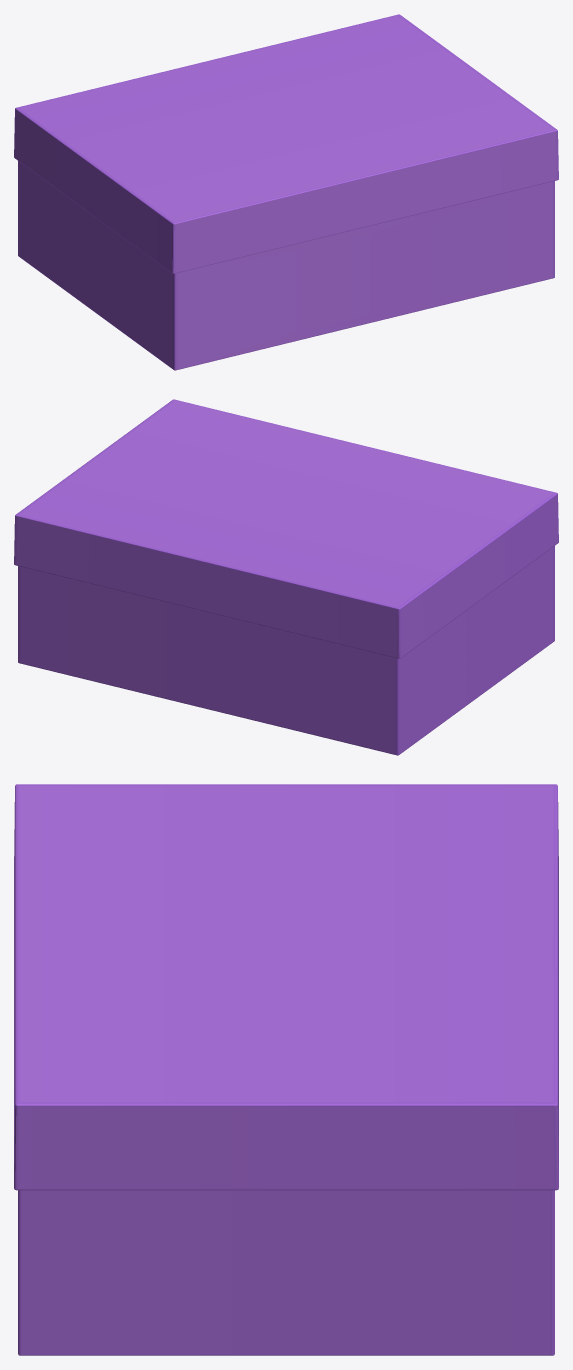
The model's file is Purple Shoebox.fbx.
3 renders of one model, top to bottom at view 1: azimuth 30°, elevation 25°; view 2: azimuth 150°, elevation 25°; view 3: azimuth 270°, elevation 25°, orthographic. The views are drawn at different scales.
Visible parts, largest first — view 1: Purple Shoebox; view 2: Purple Shoebox; view 3: Purple Shoebox.
Boxes of the visible parts, x1,y1,x2,y2 form: Purple Shoebox: (14, 14, 558, 370); Purple Shoebox: (14, 399, 558, 755); Purple Shoebox: (14, 784, 558, 1355).
Bounding box in the file's own units: 95.2 × 186 × 260.
Materials: 1 (1 with a texture image).
